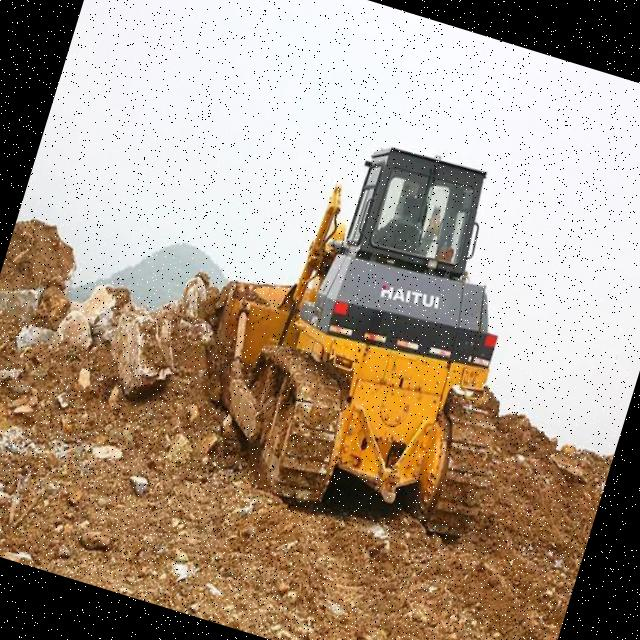Bulldozer: (146, 80, 594, 564)
